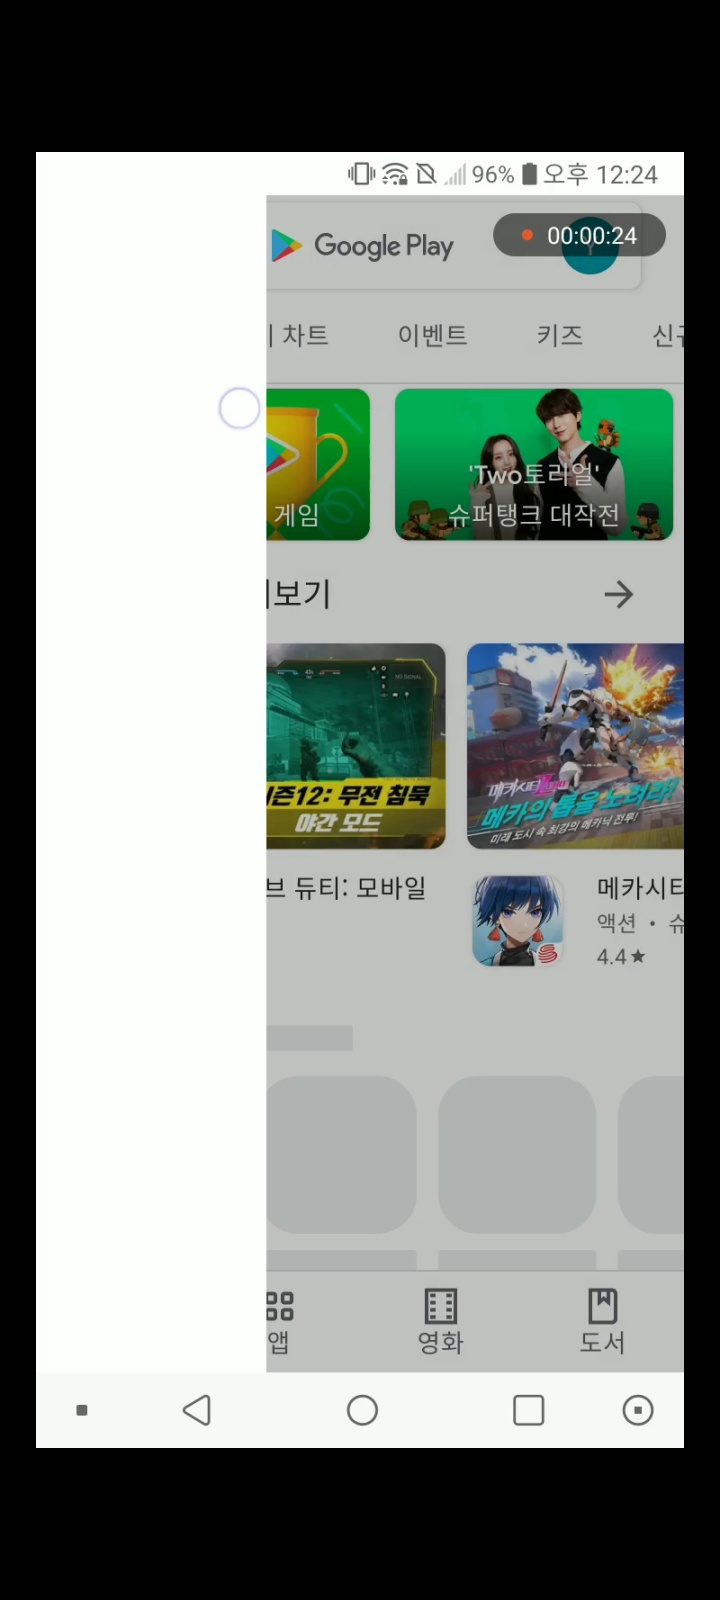Cursor: (218, 386, 263, 431)
